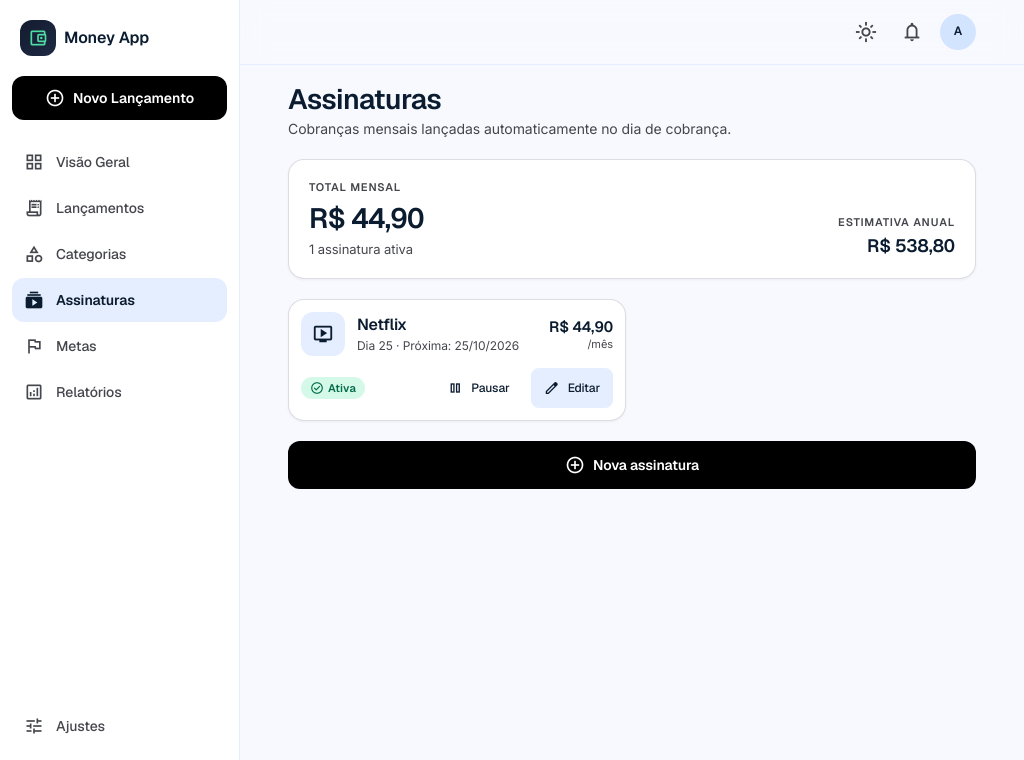
Test: aba Assinaturas › pausa e retoma pela lista; pausada não aparece prevista em Gastos
The width and height of the screenshot is (1024, 760).
Step 1. Click the button with aria-label "Pausar Netflix" → (478, 388), box x1=434 y1=368 x2=523 y2=408
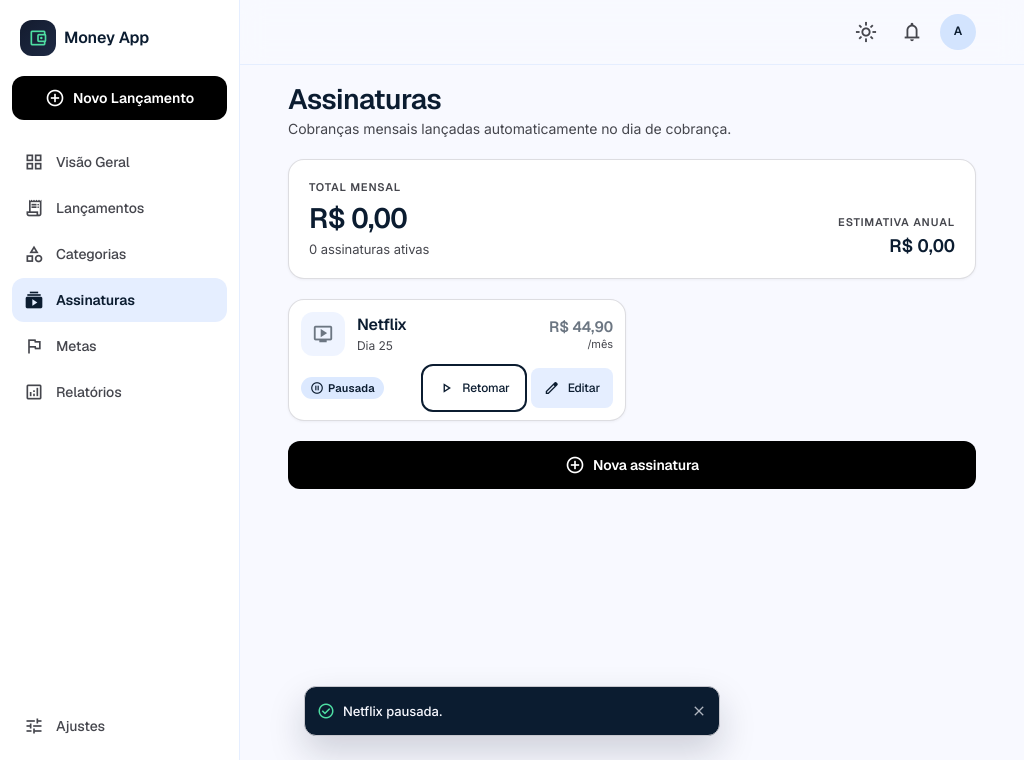
Check: the text "Pausada" is shown, box x1=301 y1=377 x2=384 y2=399
Check: the text "0 assinaturas ativas" is shown, box x1=309 y1=240 x2=429 y2=258
Step 2. Click the link "Categorias" → (75, 254), box x1=24 y1=242 x2=126 y2=266
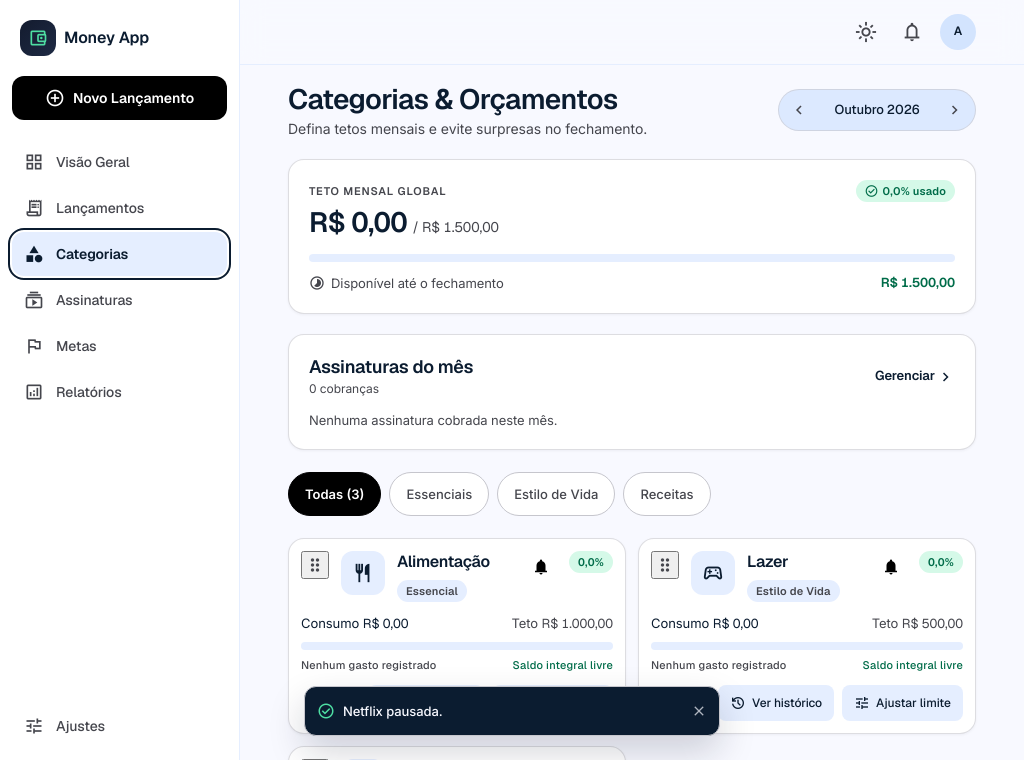
Check: the text "Nenhuma assinatura cobrada neste mês." is shown, box x1=309 y1=412 x2=558 y2=428
Step 3. Click the link "Assinaturas" → (78, 300), box x1=24 y1=288 x2=133 y2=312
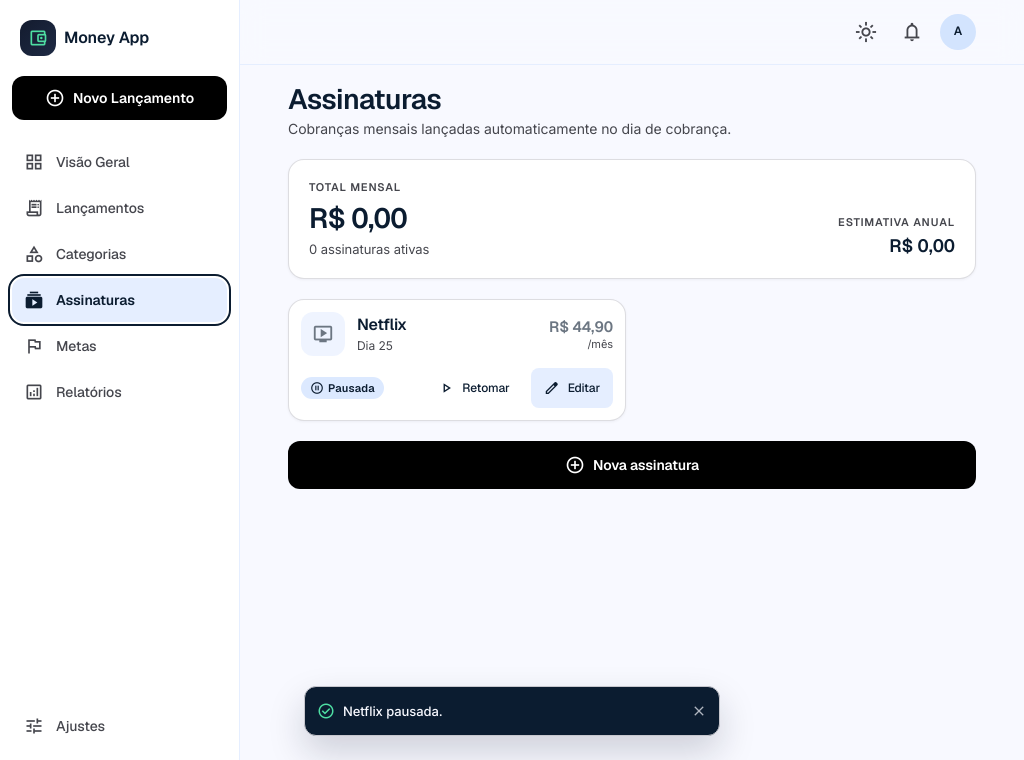
Step 4. Click the button with aria-label "Retomar Netflix" → (474, 388), box x1=425 y1=368 x2=523 y2=408
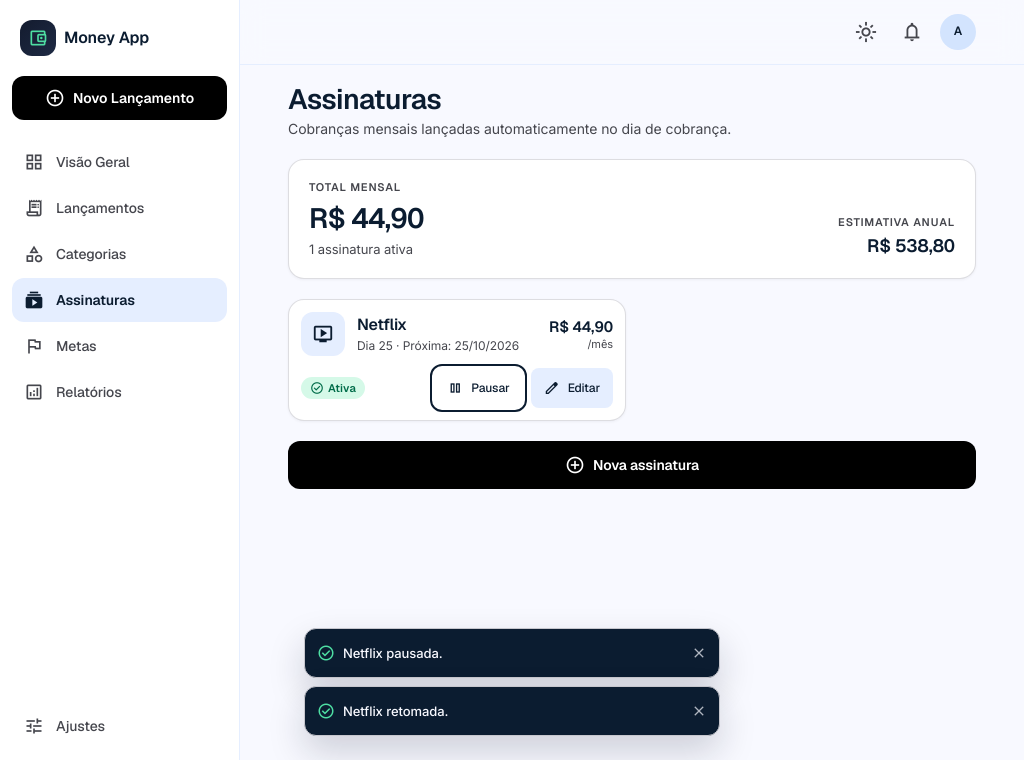
Check: the text "Ativa" is shown, box x1=301 y1=377 x2=365 y2=399
